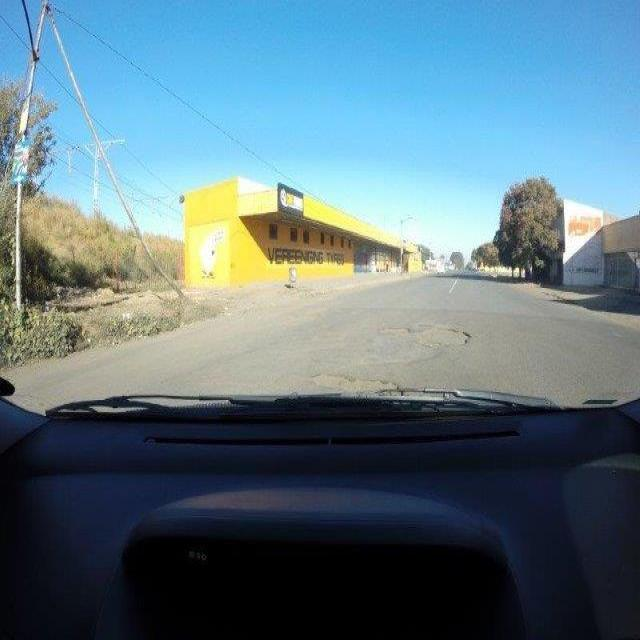lubang: (306, 369, 409, 404), (419, 323, 476, 349), (382, 321, 413, 332)
